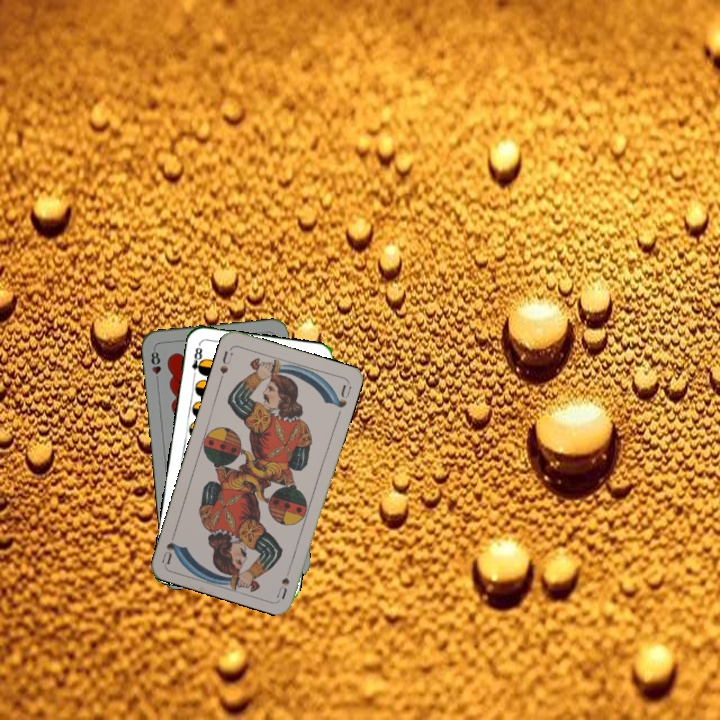E8: (188, 340, 206, 381)
H8: (147, 345, 163, 385)
SU: (273, 560, 294, 601), (216, 347, 236, 384)
